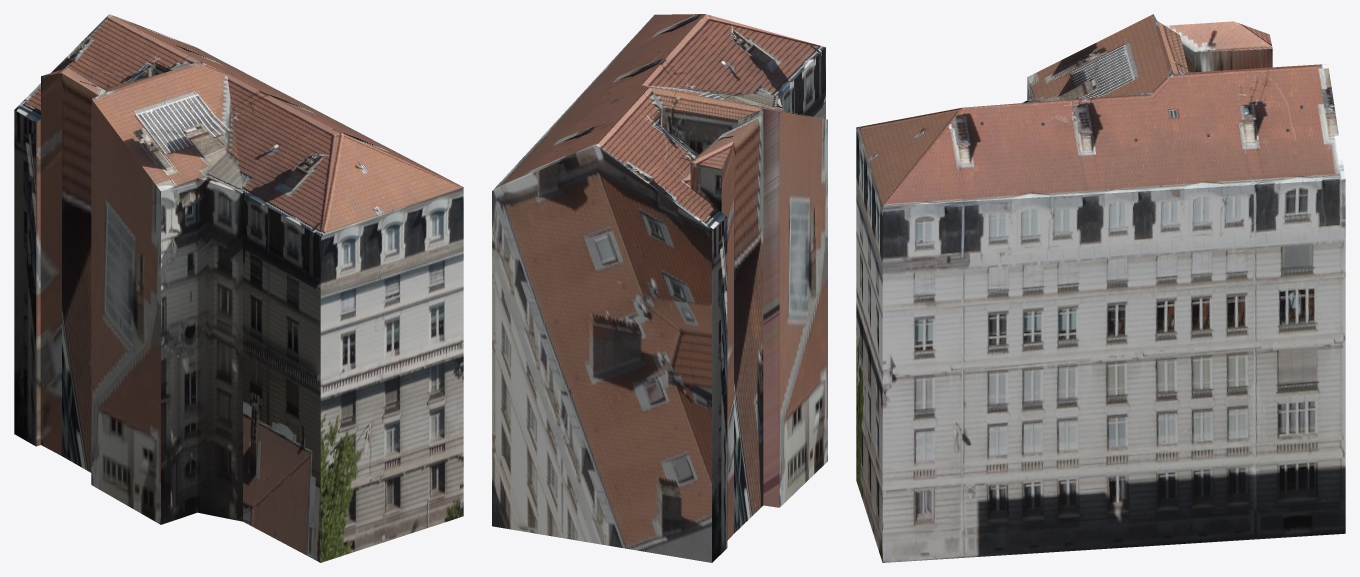
The picture shows the model from 3 angles, left to right: view 1: azimuth 30°, elevation 25°; view 2: azimuth 150°, elevation 25°; view 3: azimuth 270°, elevation 25°; orthographic projection. The views are drawn at different scales.
Visible parts, largest first — view 1: Z_UP; view 2: Z_UP; view 3: Z_UP.
Part boxes in pixels (box(x1,y1,x2,y2)): Z_UP: box(14, 14, 463, 562); Z_UP: box(492, 14, 827, 562); Z_UP: box(856, 14, 1345, 562).
Bounding box in the file's own units: 19.63 × 28.83 × 30.37.
Materials: 2 (1 with a texture image).
